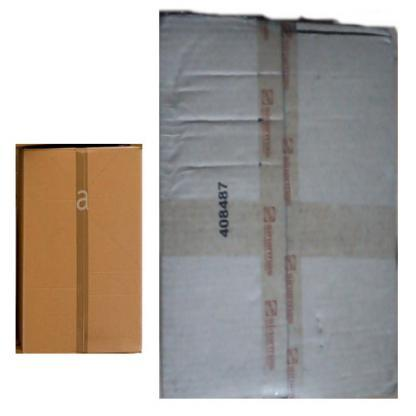package: (159, 20, 399, 398), (19, 146, 142, 354)
